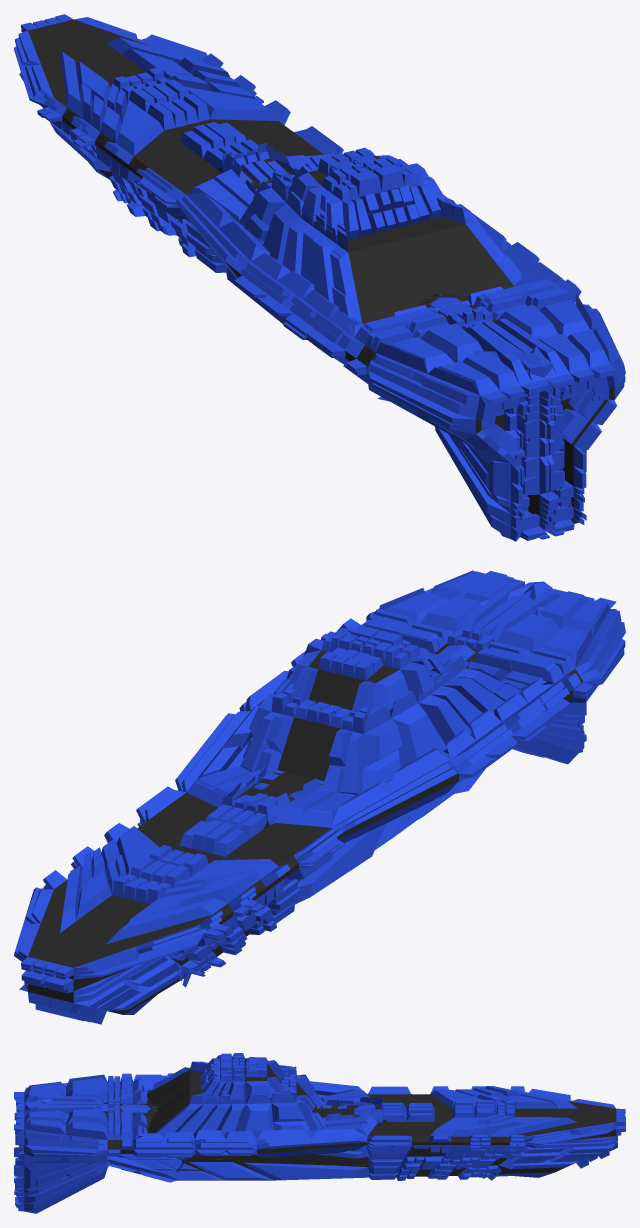
File: blue4.fbx
3 views of the same model, one above another, from view 1: azimuth 30°, elevation 25°; view 2: azimuth 150°, elevation 25°; view 3: azimuth 270°, elevation 25° (orthographic). The views are drawn at different scales.
Visible parts, largest first — view 1: discombobulated_mesh, Cube; view 2: discombobulated_mesh, Cube; view 3: discombobulated_mesh, Cube.
Boxes of the visible parts, bbox=[...] form: discombobulated_mesh: bbox=[14, 14, 625, 541]; Cube: bbox=[28, 19, 614, 523]; discombobulated_mesh: bbox=[14, 570, 625, 1024]; Cube: bbox=[28, 639, 583, 1014]; discombobulated_mesh: bbox=[14, 1053, 625, 1213]; Cube: bbox=[24, 1058, 616, 1178].
Size of the model in its own units: 662 by 622 by 2399.
